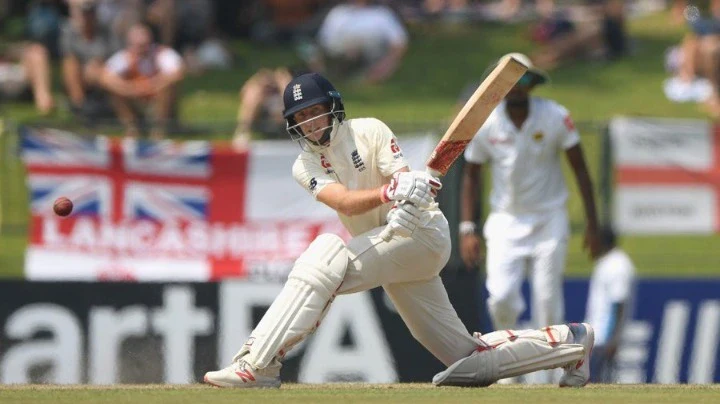Sweepshot: (167, 40, 604, 390)
